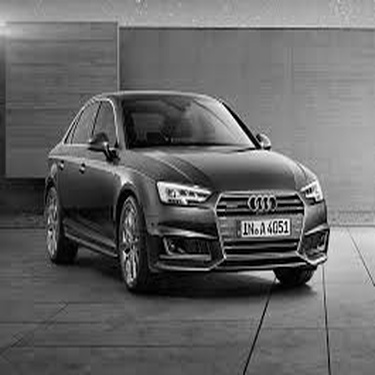car: (59, 93, 331, 298)
